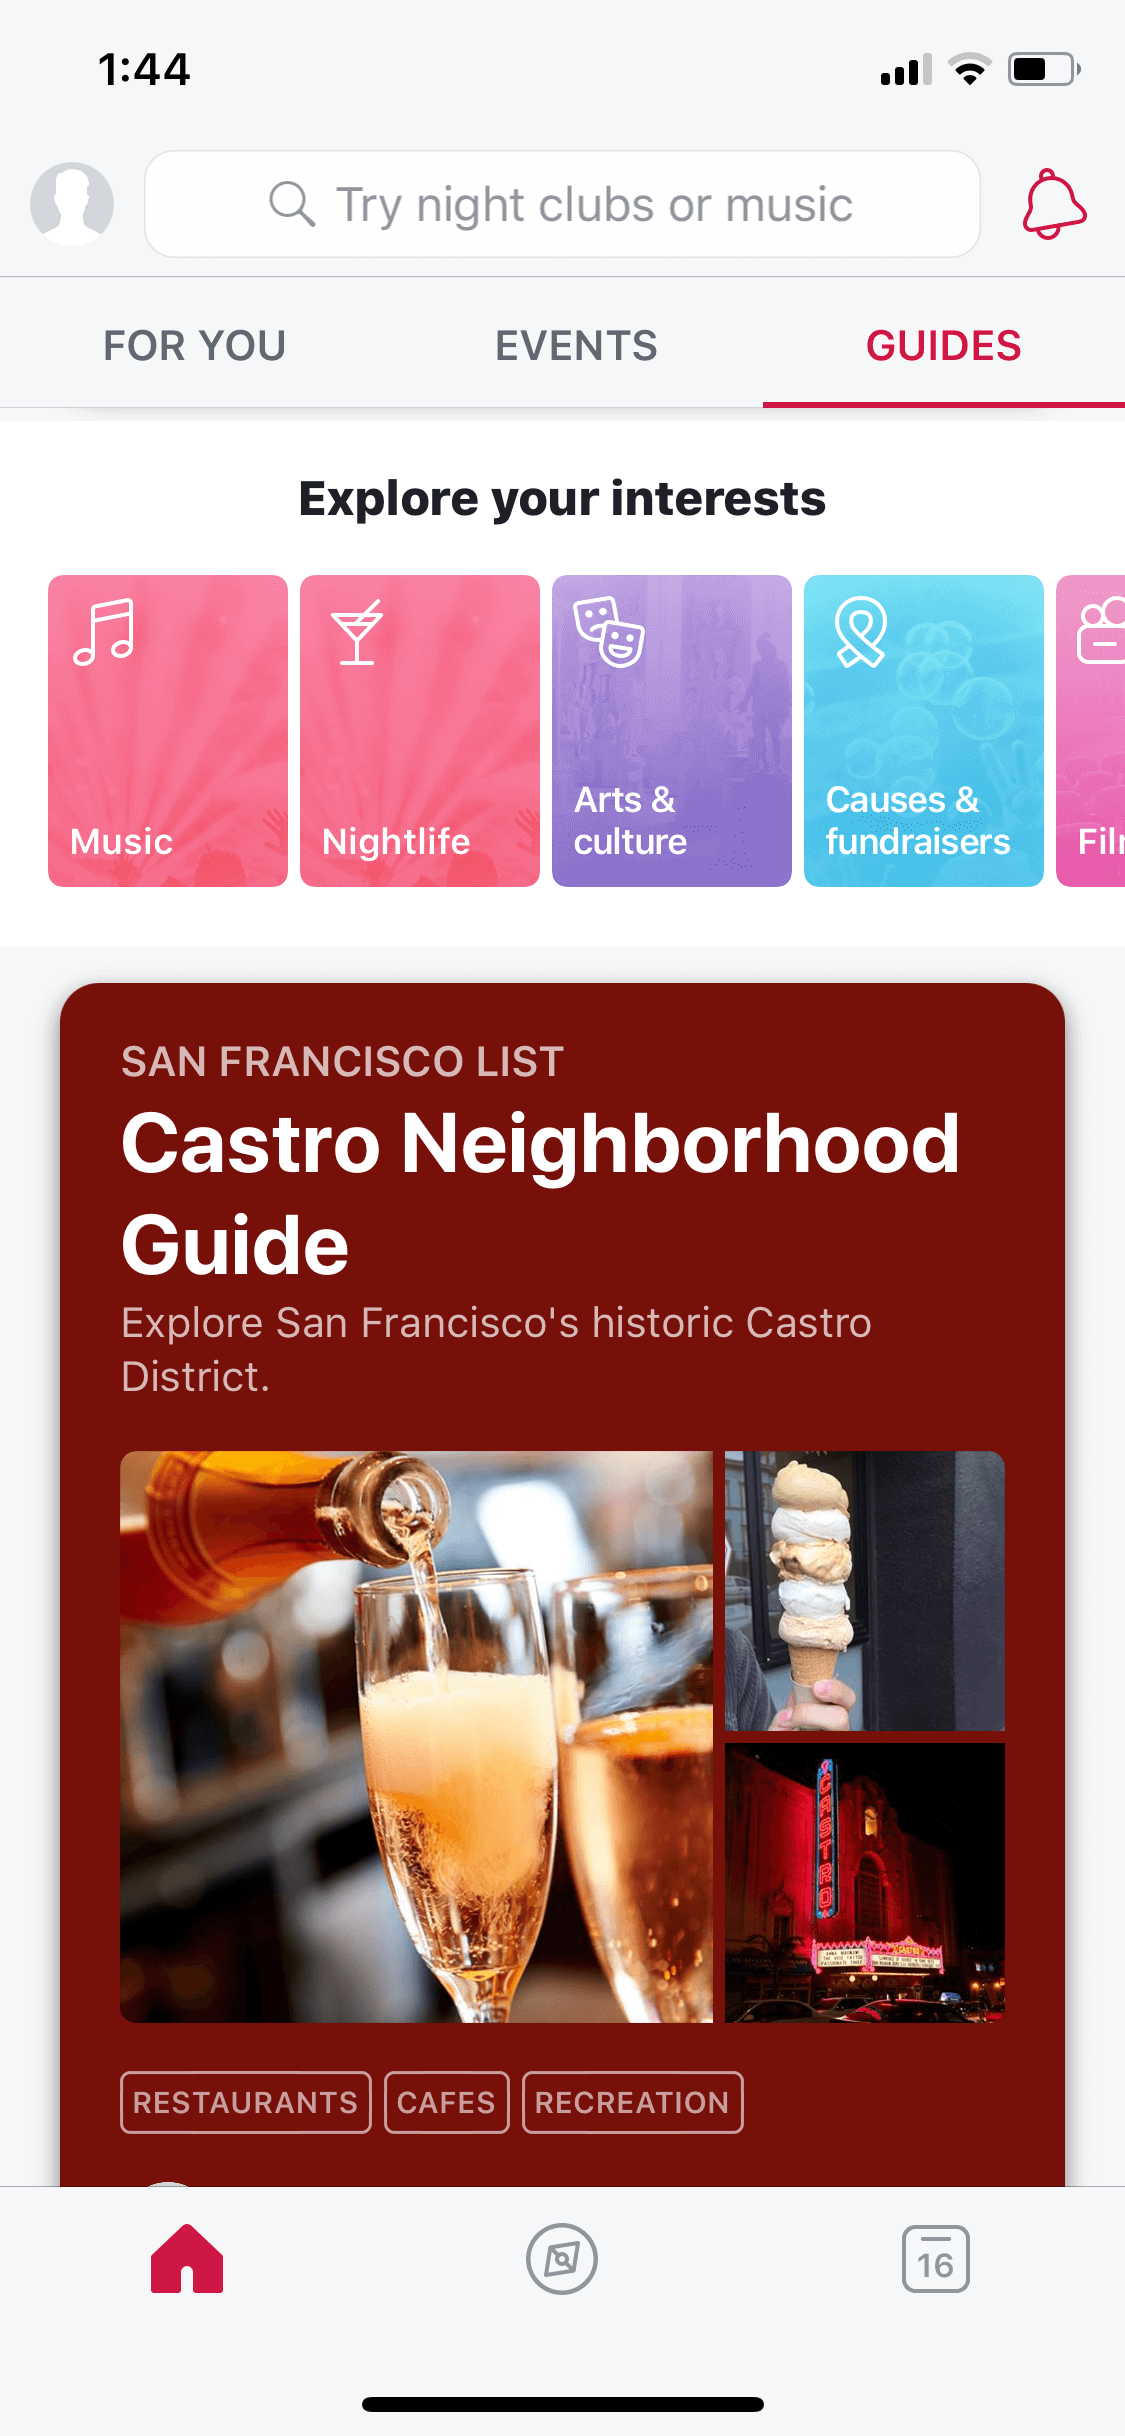Buttons: (991, 134, 1106, 261)
